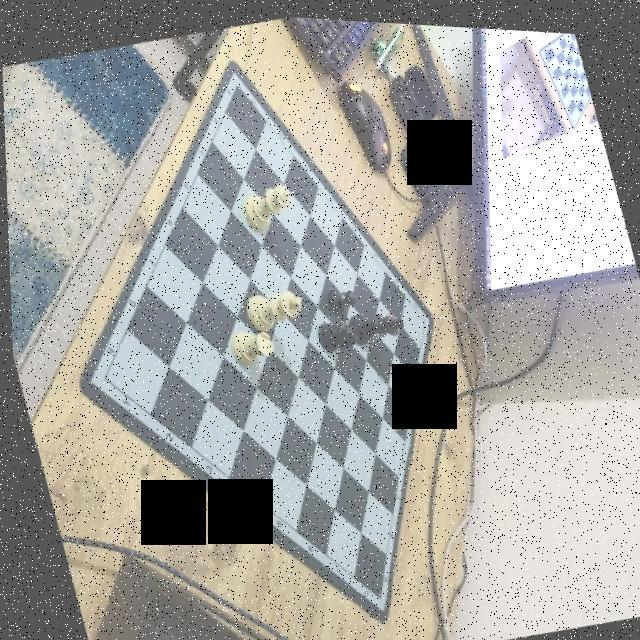chess-table-corners: (88, 359, 116, 392), (230, 72, 242, 90), (369, 584, 381, 601), (416, 306, 428, 322)
